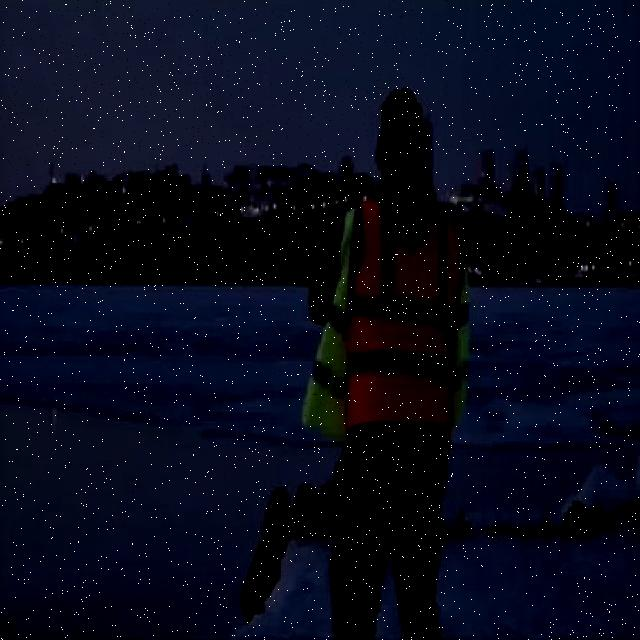Mask: (297, 198, 472, 440), (342, 199, 464, 438)
